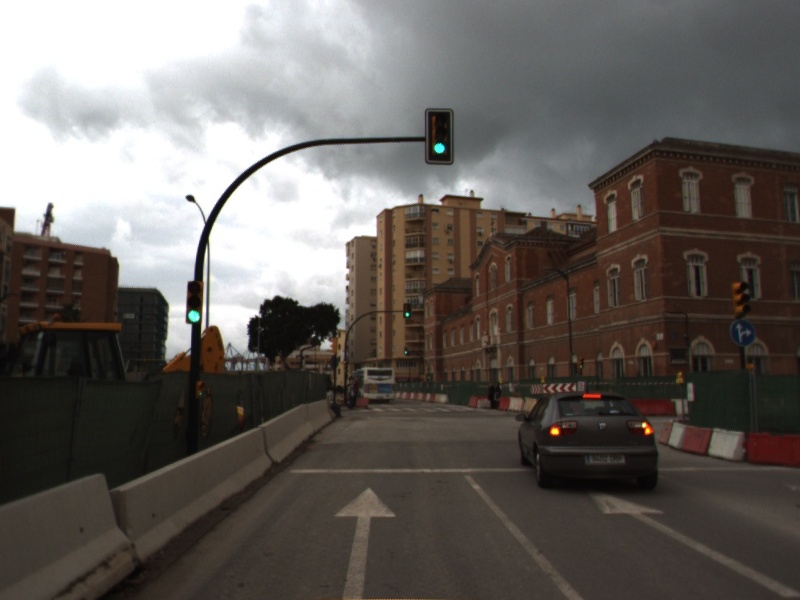STRAIGHT: (588, 487, 800, 598), (331, 484, 398, 600)
